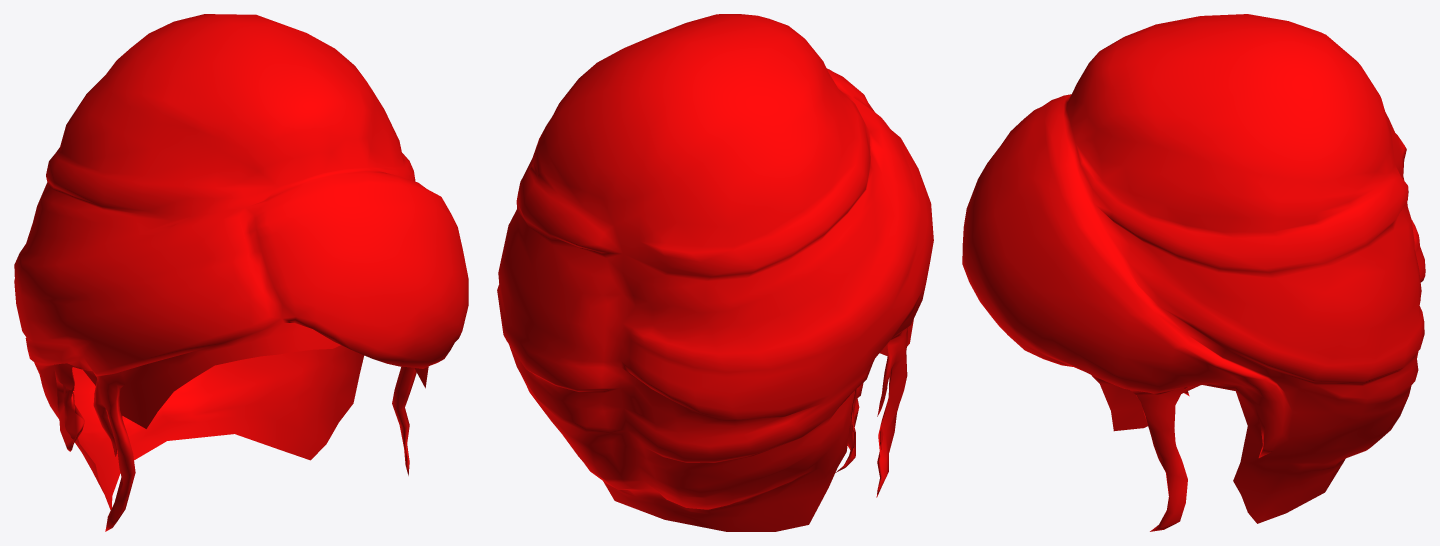
File: elvs_50s_updo_F.glb
3 renders of one model, left to right at view 1: azimuth 30°, elevation 25°; view 2: azimuth 150°, elevation 25°; view 3: azimuth 270°, elevation 25°, orthographic.
Bounding box in the file's own units: 0.192 × 0.2274 × 0.2098.
Materials: 1 (1 with a texture image).
